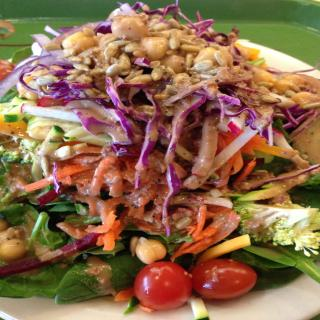tomato: (190, 258, 260, 302), (132, 260, 194, 309)
